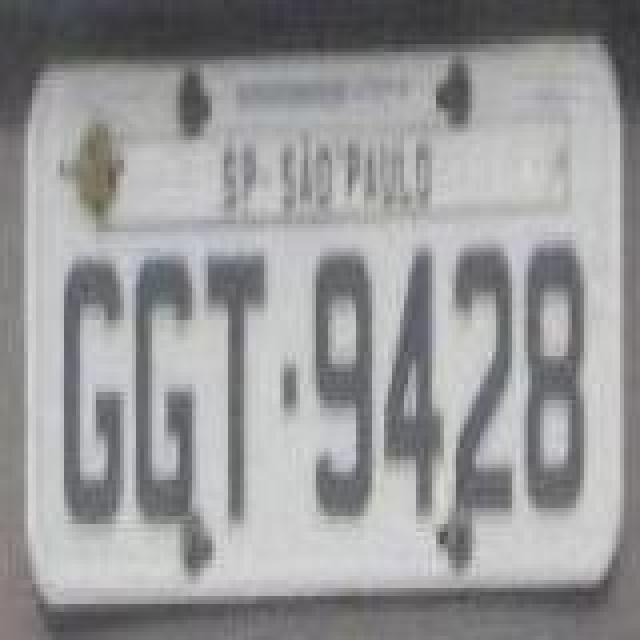2: (452, 246, 516, 522)
4: (384, 248, 448, 520)
8: (522, 238, 590, 514)
9: (312, 246, 376, 522)
G: (136, 254, 200, 530), (64, 256, 128, 528)
T: (204, 246, 268, 522)
